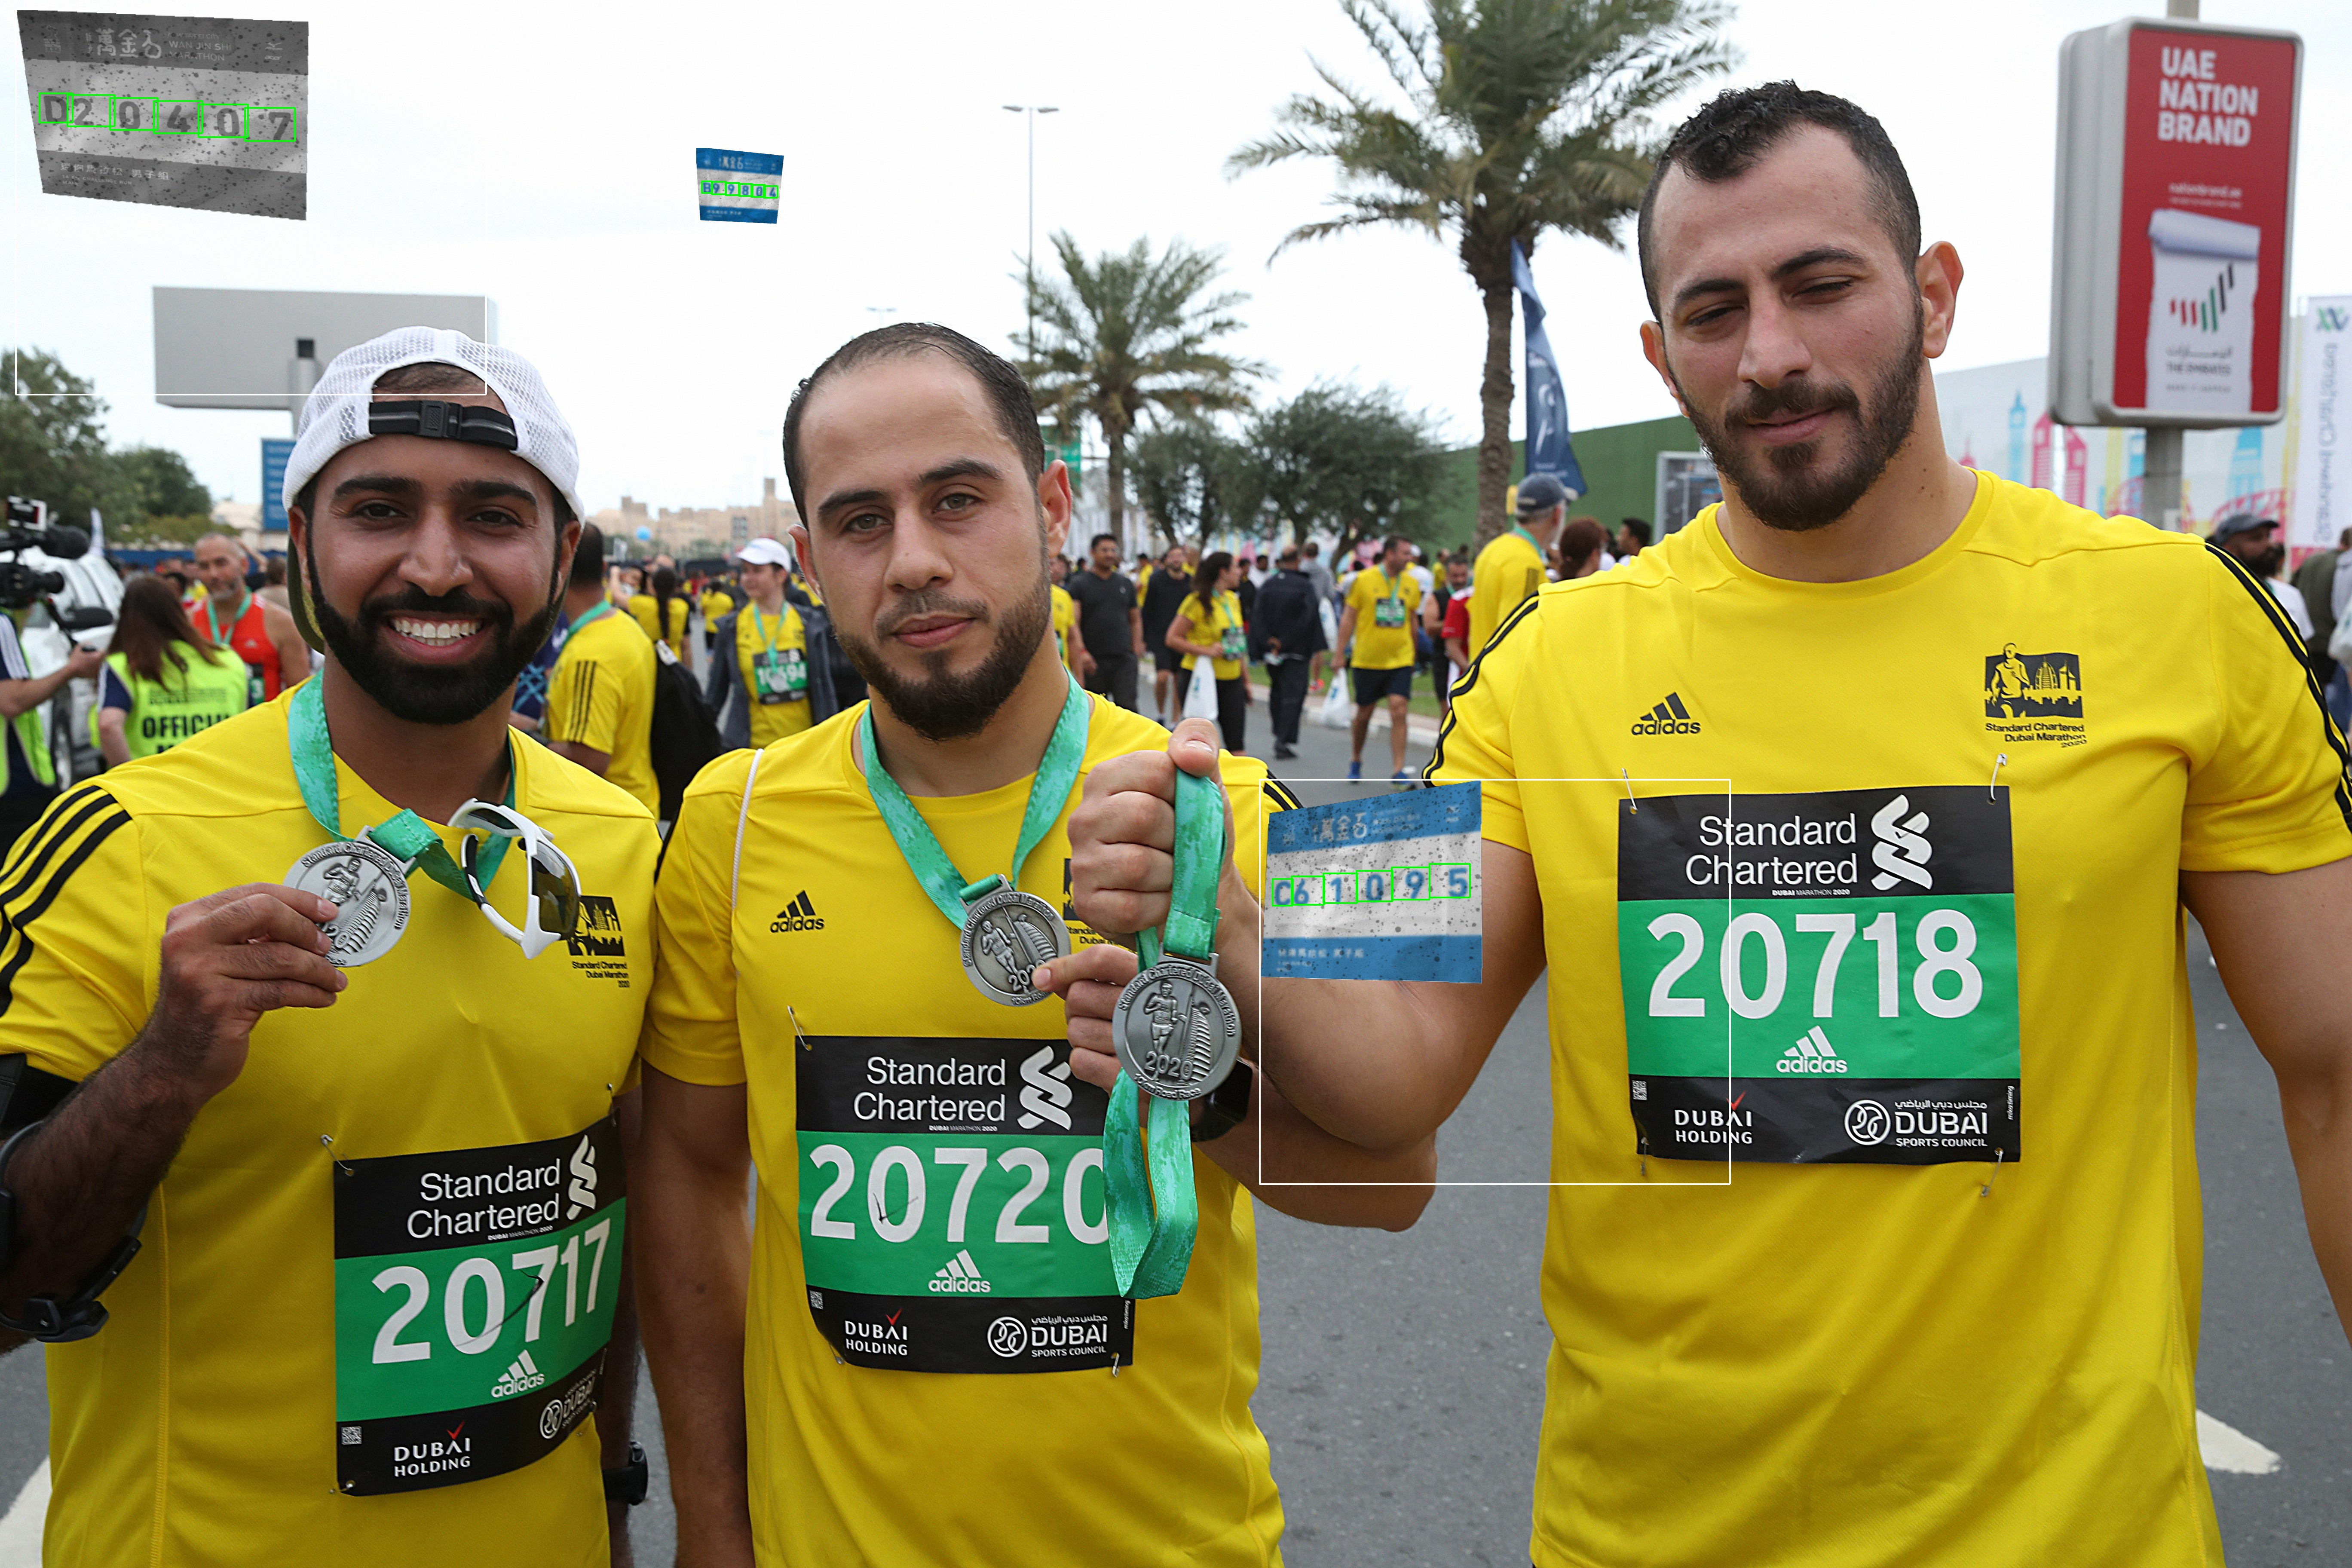0: (198, 103, 247, 136)
1: (1391, 868, 1430, 899)
2: (66, 94, 115, 126)
6: (1291, 877, 1323, 905)
9: (710, 182, 726, 194), (751, 185, 765, 196)
B: (702, 180, 712, 192)
C: (1272, 878, 1293, 906)
D: (38, 93, 73, 122)
tag: (10, 5, 315, 226), (1255, 775, 1487, 989), (691, 142, 789, 227)
